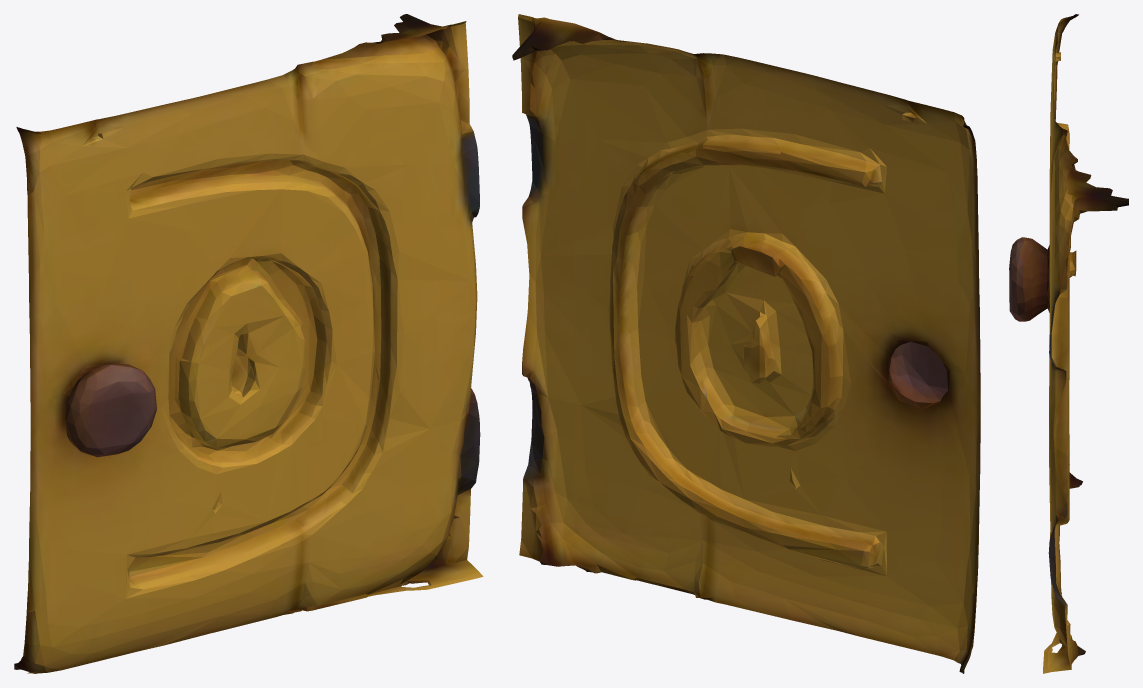
Rendered from door_right.glb.
3 renders of one model, left to right at view 1: azimuth 30°, elevation 25°; view 2: azimuth 150°, elevation 25°; view 3: azimuth 270°, elevation 25°, orthographic. The views are drawn at different scales.
Visible parts, largest first — view 1: source_surface_0; view 2: source_surface_0; view 3: source_surface_0.
Boxes of the visible parts, box(x1,y1,x2,y2) form: source_surface_0: box(14, 14, 483, 673); source_surface_0: box(512, 14, 980, 673); source_surface_0: box(1009, 14, 1128, 673).
Bounding box in the file's own units: 0.086 × 0.0998 × 0.023.
Materials: 1 (1 with a texture image).
